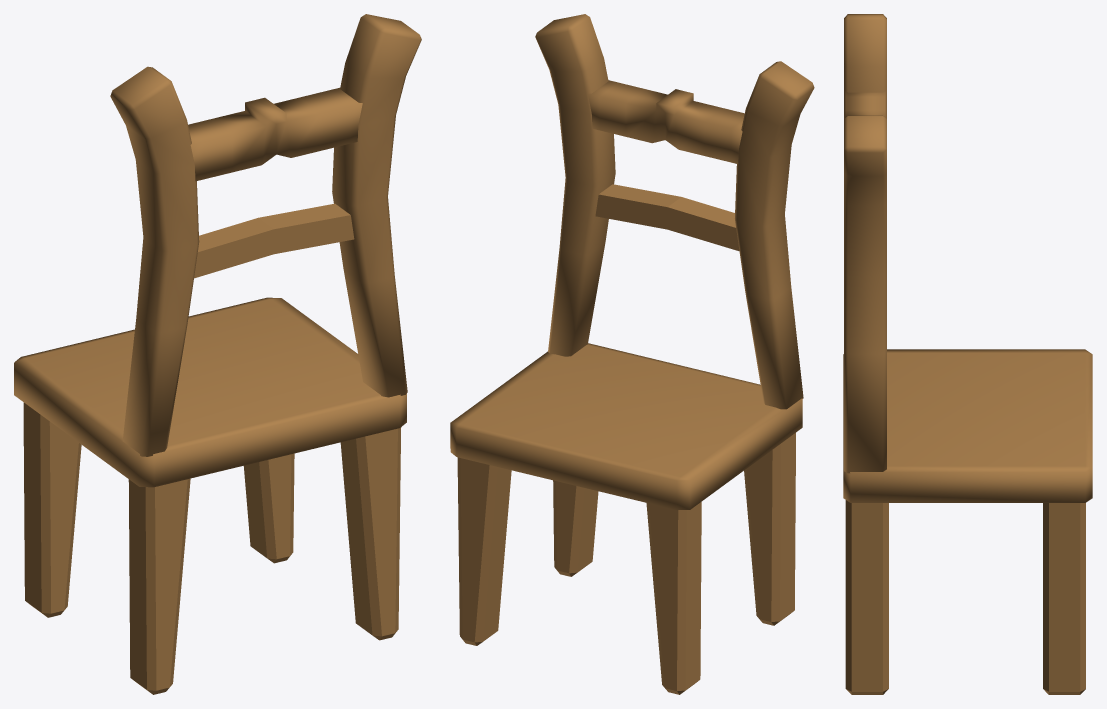
File: props_chair_4.fbx
3 renders of one model, left to right at view 1: azimuth 30°, elevation 25°; view 2: azimuth 150°, elevation 25°; view 3: azimuth 270°, elevation 25°, orthographic. The views are drawn at different scales.
Visible parts, largest first — view 1: chaise_low_poly.005; view 2: chaise_low_poly.005; view 3: chaise_low_poly.005.
Boxes of the visible parts, left/top/right/bottom form: chaise_low_poly.005: left=14, top=14, right=421, bottom=694; chaise_low_poly.005: left=450, top=14, right=814, bottom=694; chaise_low_poly.005: left=843, top=14, right=1092, bottom=694.
Size of the model in its own units: 1.2 by 0.9478 by 2.41.
